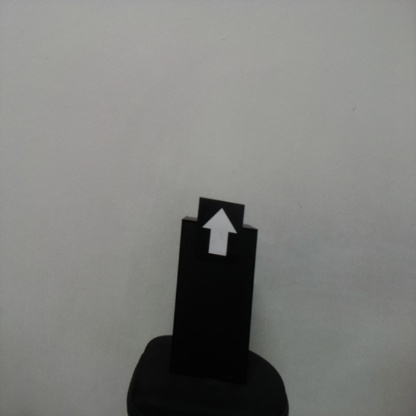id_1: (199, 202, 243, 269)
